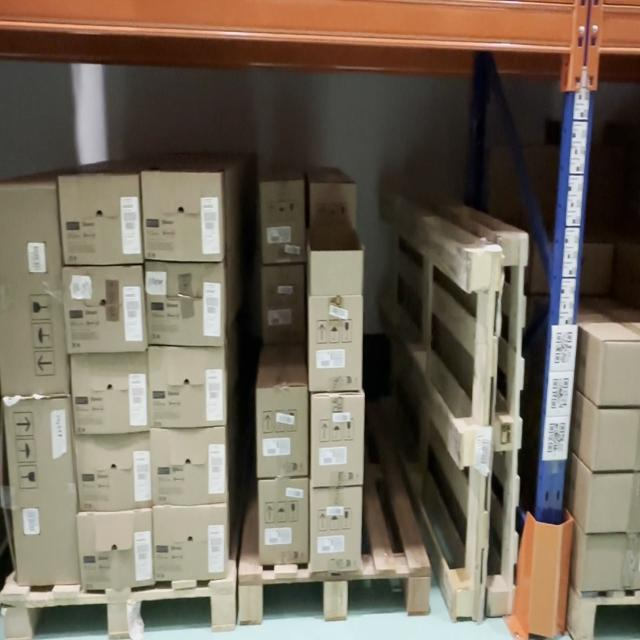box: (4, 396, 81, 584), (0, 186, 68, 397), (62, 267, 146, 356), (60, 175, 143, 264), (71, 348, 149, 430), (143, 174, 220, 256), (74, 432, 151, 513), (77, 508, 154, 587), (150, 264, 222, 342), (153, 427, 224, 505), (150, 348, 224, 422), (155, 510, 225, 576), (311, 298, 361, 390), (313, 398, 364, 487), (258, 391, 307, 474), (312, 489, 359, 568), (261, 482, 307, 562), (580, 536, 640, 591), (586, 474, 640, 535), (263, 266, 305, 341), (263, 184, 304, 257), (594, 411, 640, 471), (599, 341, 640, 406)
